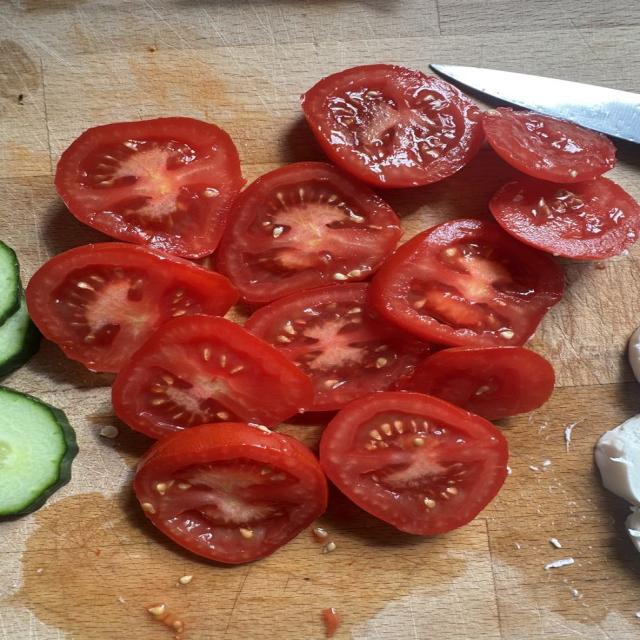cucumber sliced: (0, 387, 77, 519), (0, 294, 40, 378), (0, 241, 20, 325)
sliced tomatoe: (27, 243, 237, 371), (134, 424, 326, 563), (320, 393, 507, 534), (55, 118, 244, 257), (217, 163, 401, 303), (113, 316, 313, 438), (369, 220, 562, 346), (245, 284, 433, 410), (301, 65, 483, 187), (490, 177, 639, 259), (399, 347, 554, 420), (482, 107, 615, 182)
